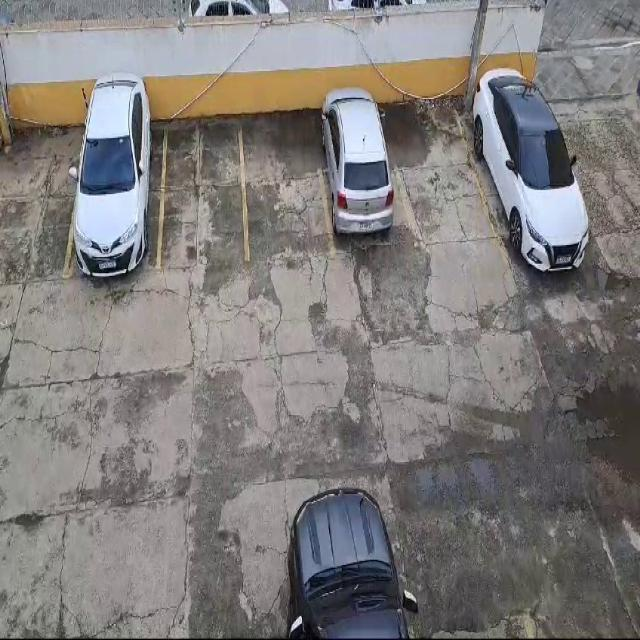empty: (382, 99, 500, 239), (239, 104, 333, 260), (157, 113, 247, 270)
notEmpty: (454, 89, 591, 265), (311, 103, 417, 256), (64, 120, 165, 276)
